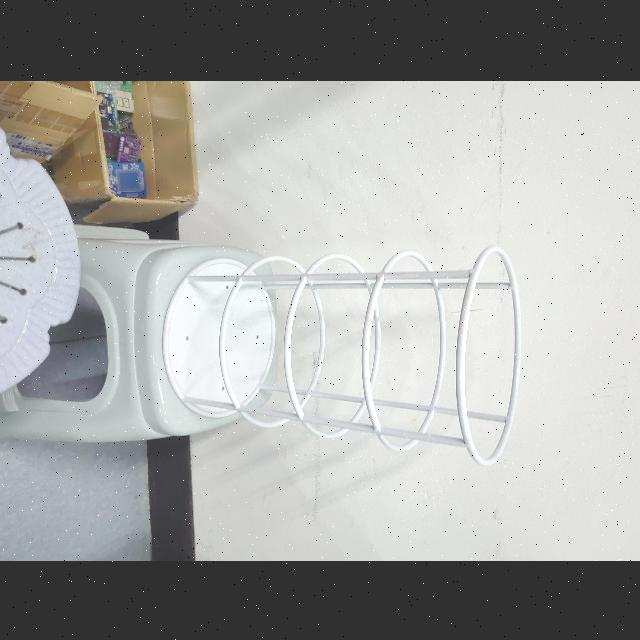S: (157, 236, 525, 474)
